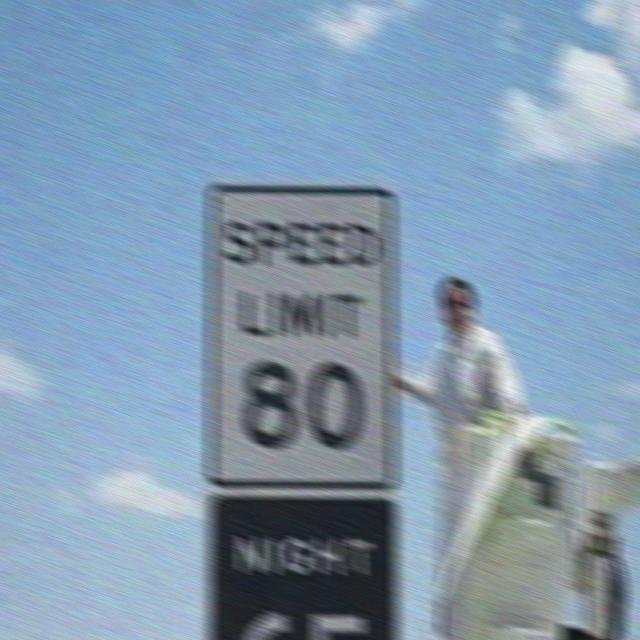speedLimit80: (214, 180, 400, 491)
